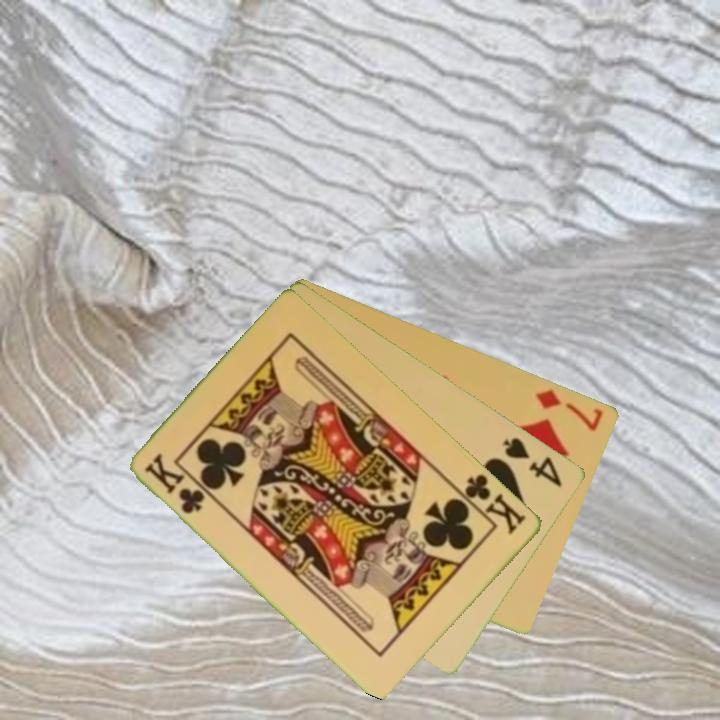4s: (500, 433, 566, 490)
7d: (532, 385, 606, 434)
Kc: (453, 470, 530, 538), (141, 450, 209, 517)
